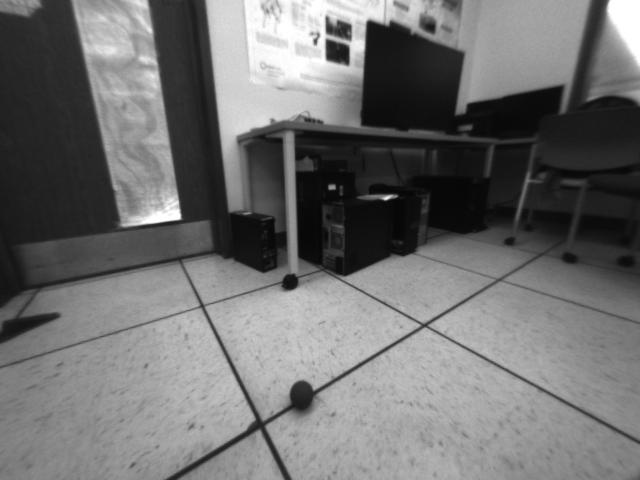dogtoy: (283, 376, 323, 415)
